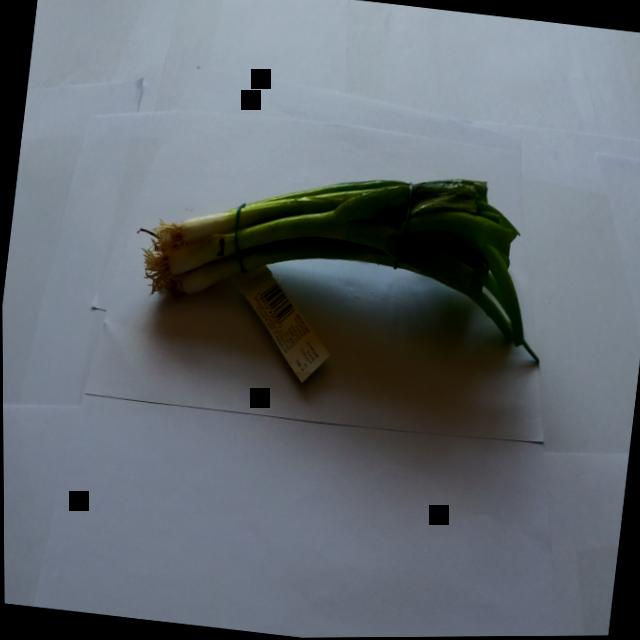Springonion: (99, 103, 582, 449)
